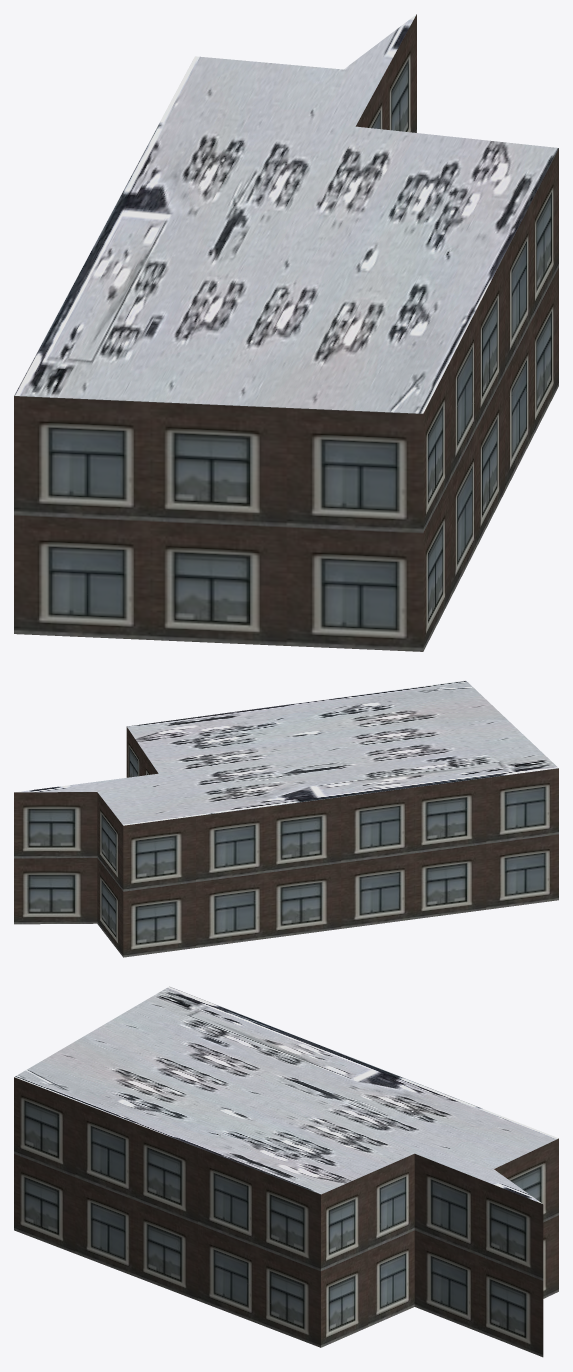
The model's file is ResTex__271.fbx.
3 renders of one model, top to bottom at view 1: azimuth 30°, elevation 25°; view 2: azimuth 150°, elevation 25°; view 3: azimuth 270°, elevation 25°, orthographic. The views are drawn at different scales.
Visible parts, largest first — view 1: CityEngineMaterial_16_m, CityEngineMaterial_15_m; view 2: CityEngineMaterial_16_m, CityEngineMaterial_15_m; view 3: CityEngineMaterial_16_m, CityEngineMaterial_15_m.
Part boxes in pixels (x1,y1,x2,y2): CityEngineMaterial_16_m: (14,14,558,651); CityEngineMaterial_15_m: (14,14,558,413); CityEngineMaterial_16_m: (14,727,558,957); CityEngineMaterial_15_m: (16,680,558,825); CityEngineMaterial_16_m: (14,1077,558,1357); CityEngineMaterial_15_m: (14,986,558,1203).
Bounding box in the file's own units: 18.28 × 6 × 19.34.
2 materials, 2 textured.
